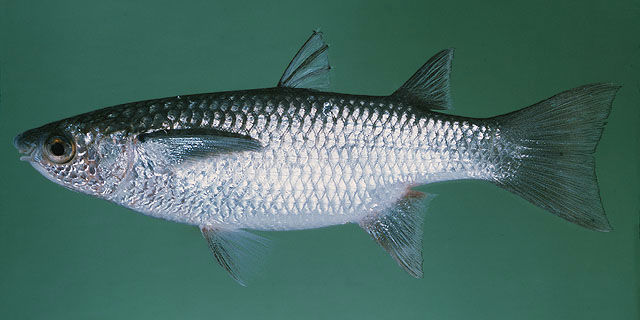fish: (11, 27, 624, 289)
